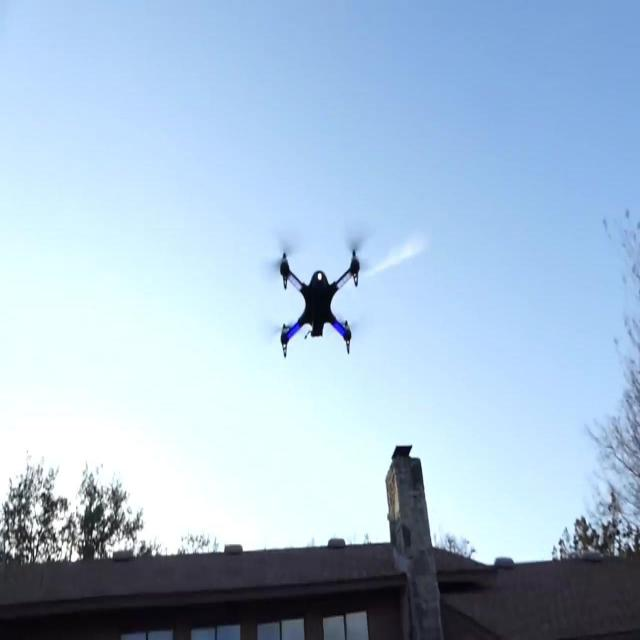UAV: (272, 236, 368, 358)
